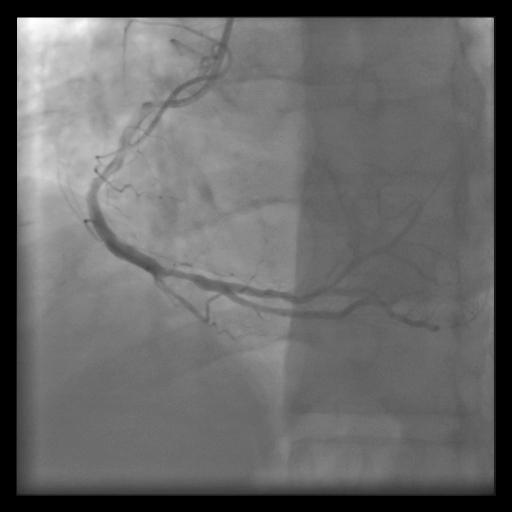Stenosis: (162, 260, 210, 290)
